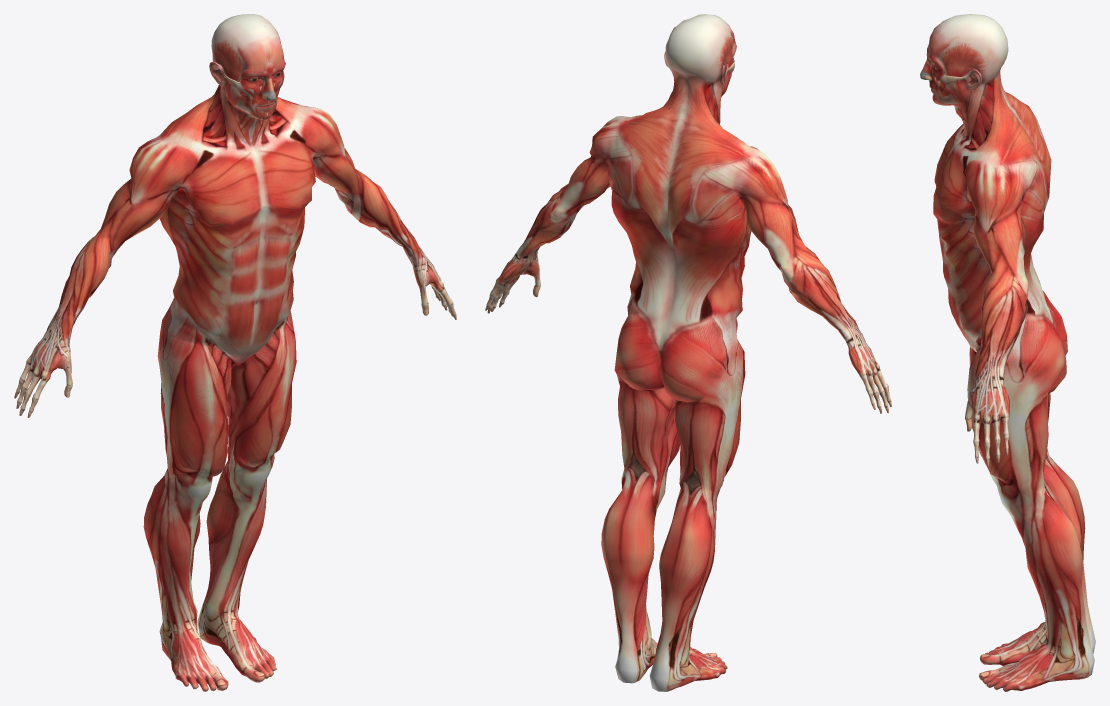
The model's file is SUP_Anatomic_Muscle_study.glb.
The picture shows the model from 3 angles, left to right: view 1: azimuth 30°, elevation 25°; view 2: azimuth 150°, elevation 25°; view 3: azimuth 270°, elevation 25°; orthographic projection. The views are drawn at different scales.
Visible parts, largest first — view 1: SUP_Anatomic_Muscle_study; view 2: SUP_Anatomic_Muscle_study; view 3: SUP_Anatomic_Muscle_study.
Boxes of the visible parts, x1,y1,x2,y2 form: SUP_Anatomic_Muscle_study: (14,14,456,691); SUP_Anatomic_Muscle_study: (485,14,891,691); SUP_Anatomic_Muscle_study: (920,14,1095,691).
Bounding box in the file's own units: 76.09 × 114 × 27.74.
Materials: 2 (2 with a texture image).
